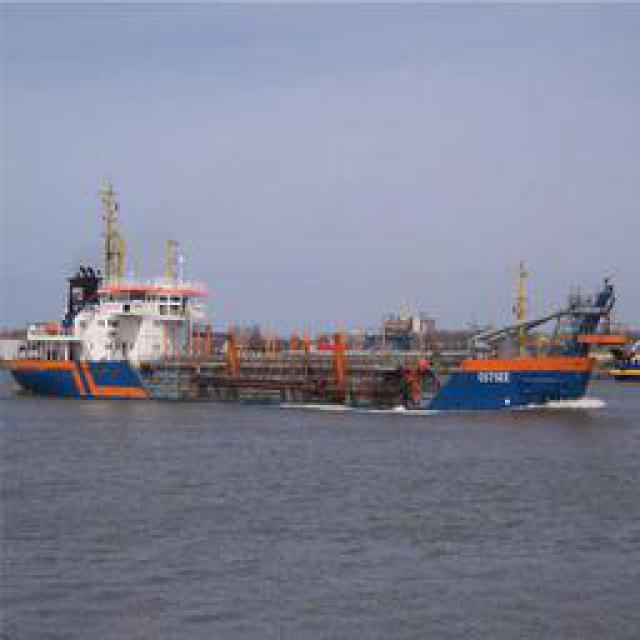Ship: (10, 181, 606, 426)
